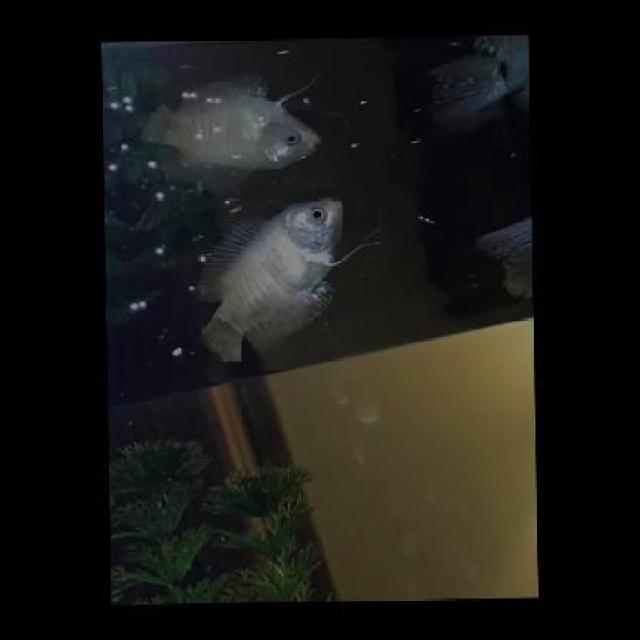Gourami: (188, 194, 344, 368)
